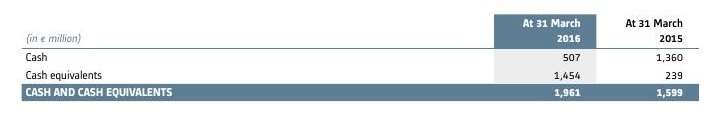table: (0, 0, 717, 118)
